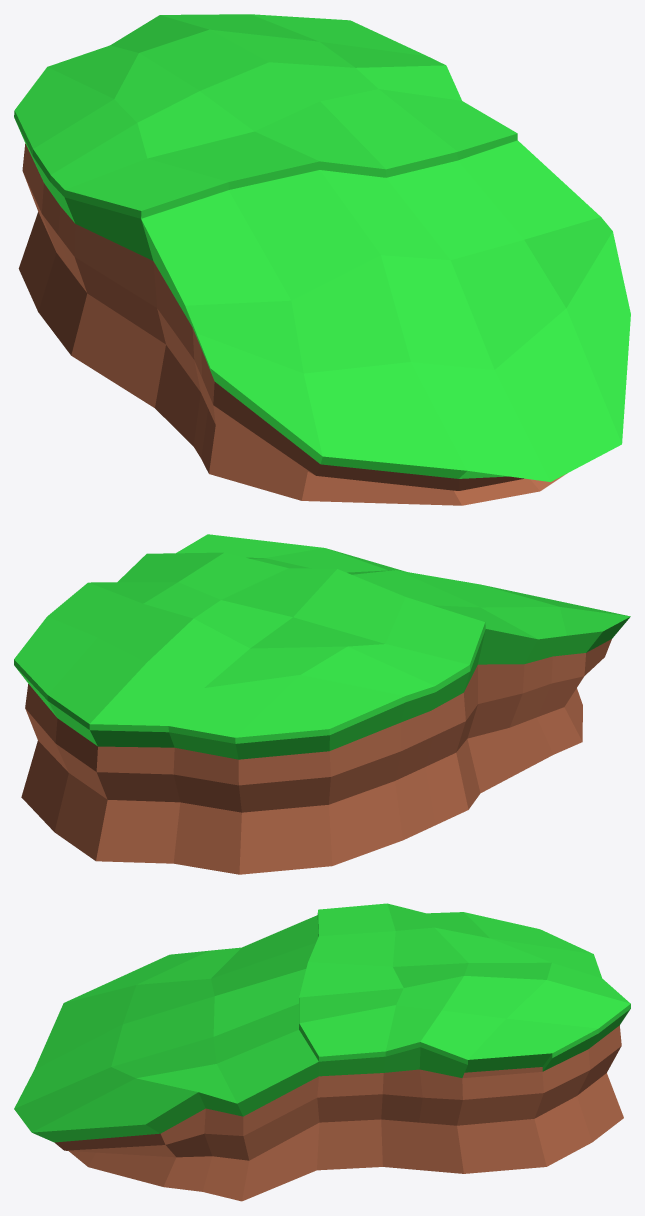
File: terrant3.fbx
3 views of the same model, one above another, from view 1: azimuth 30°, elevation 25°; view 2: azimuth 150°, elevation 25°; view 3: azimuth 270°, elevation 25° (orthographic). The views are drawn at different scales.
Parts seen in each view (by area): view 1: Plane.001; view 2: Plane.001; view 3: Plane.001.
Boxes of the visible parts, box(x1,y1,x2,y2) form: Plane.001: box(14, 14, 630, 505); Plane.001: box(14, 534, 630, 874); Plane.001: box(14, 903, 630, 1201).
Size of the model in its own units: 314 by 159 by 520.
